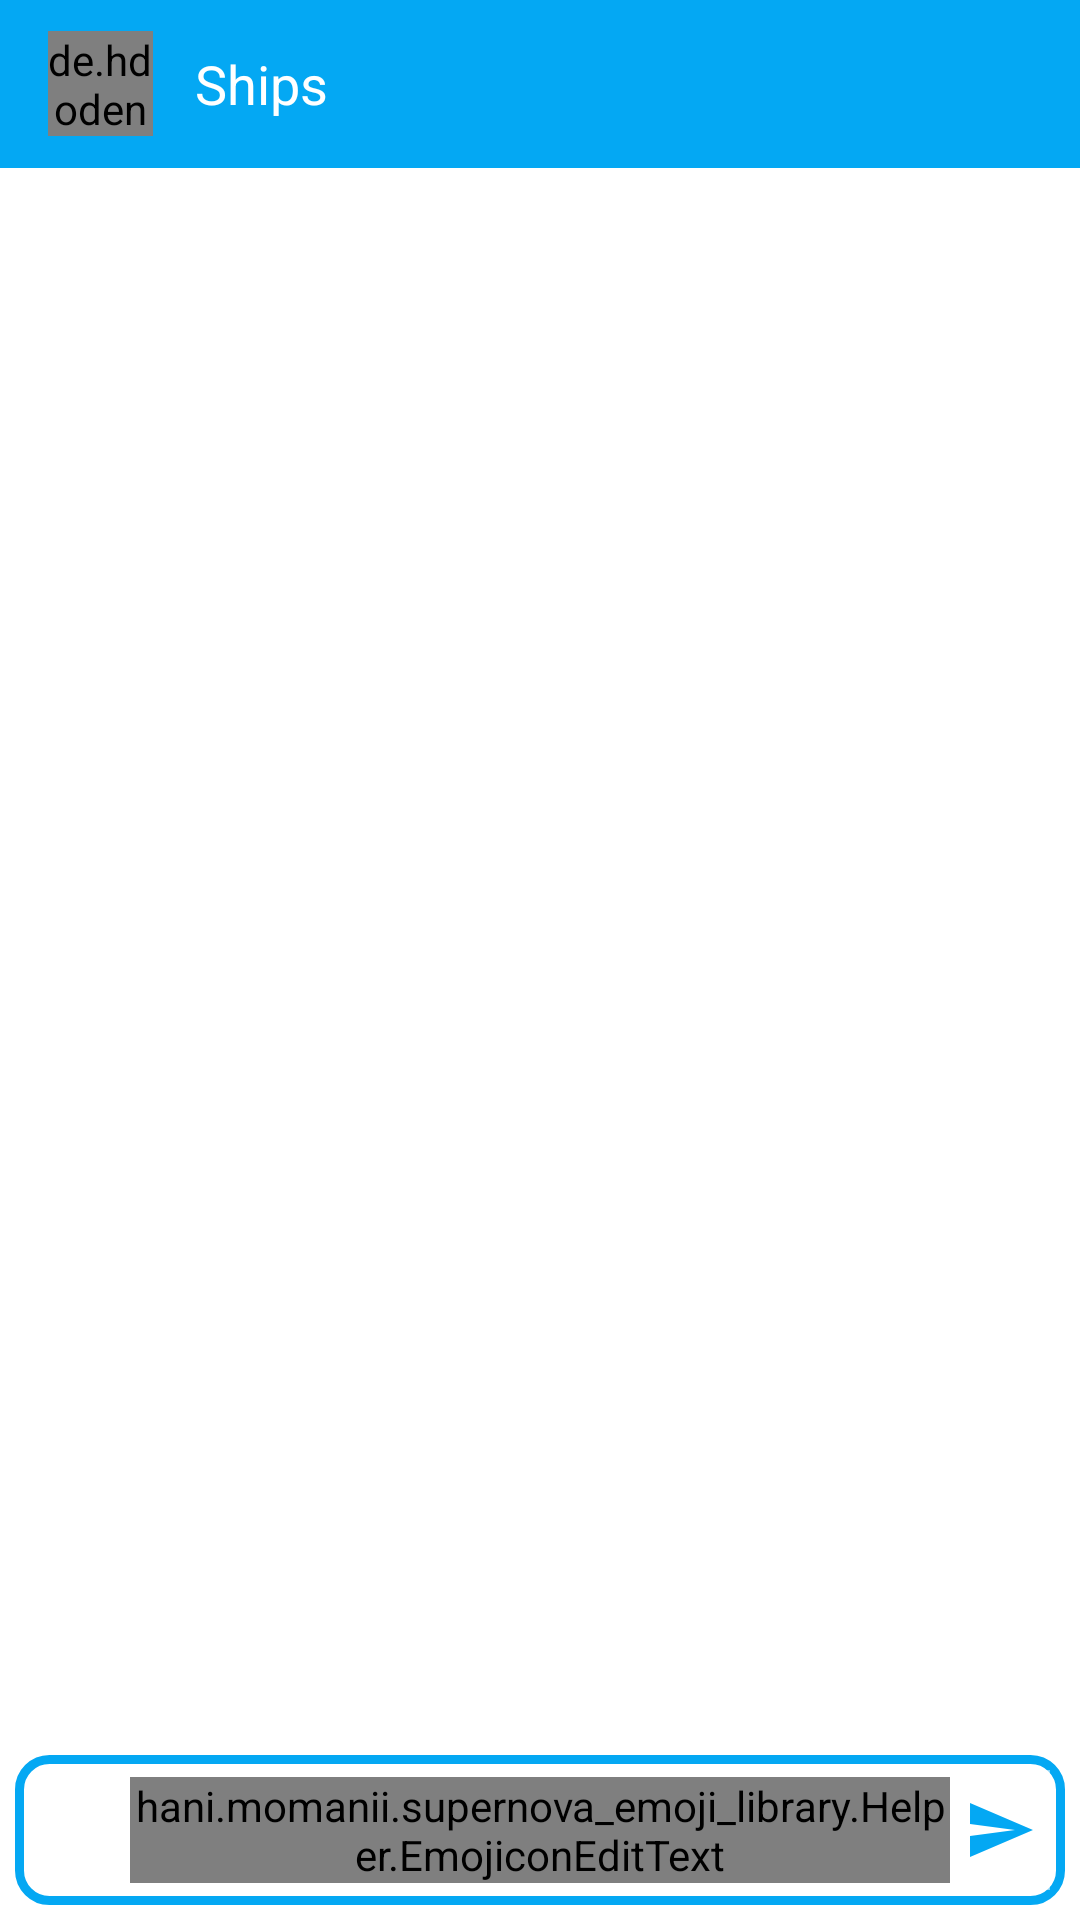

Icon click points for this 1080 x 1920 phone screenshot, format (x,y):
send: (1001,1830)
